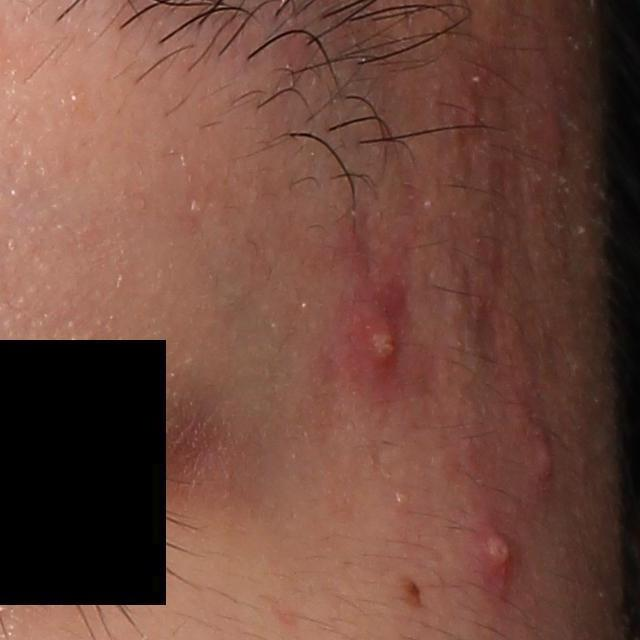nevus: (399, 573, 424, 610)
papule: (524, 424, 564, 501), (534, 109, 571, 165)
pustule: (461, 511, 520, 610), (351, 293, 409, 381)
